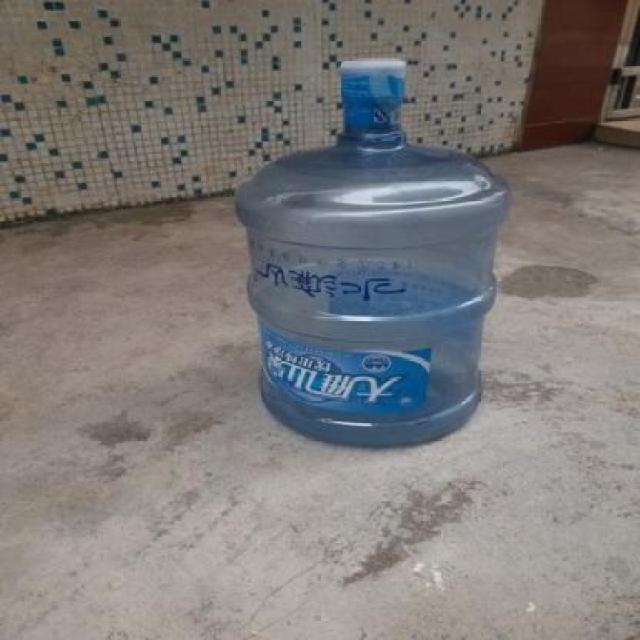coolerbottle: (232, 53, 514, 454)
